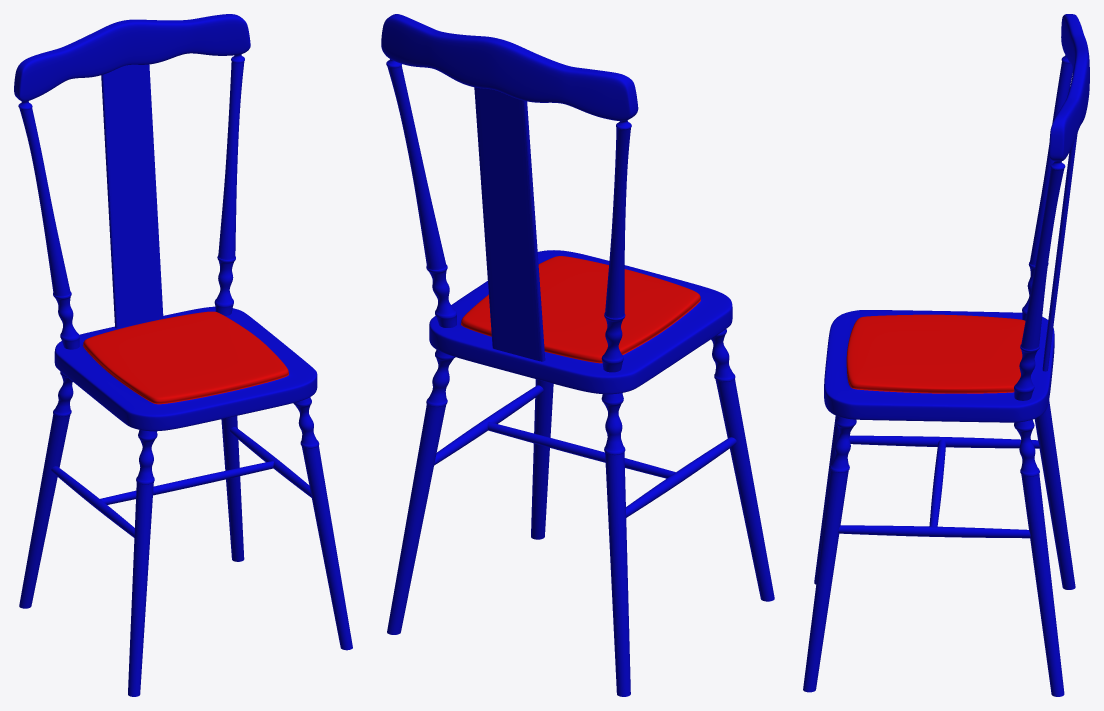
Rendered from chaise_hp.fbx.
3 views of the same model, side by side, from view 1: azimuth 30°, elevation 25°; view 2: azimuth 150°, elevation 25°; view 3: azimuth 270°, elevation 25° (orthographic). The views are drawn at different scales.
Parts seen in each view (by area): view 1: chaise.001; view 2: chaise.001; view 3: chaise.001.
Part boxes in pixels (x1,y1,x2,y2): chaise.001: (14,14,352,696); chaise.001: (381,14,774,696); chaise.001: (803,14,1089,696).
Bounding box in the file's own units: 38.01 × 87.1 × 38.72.
